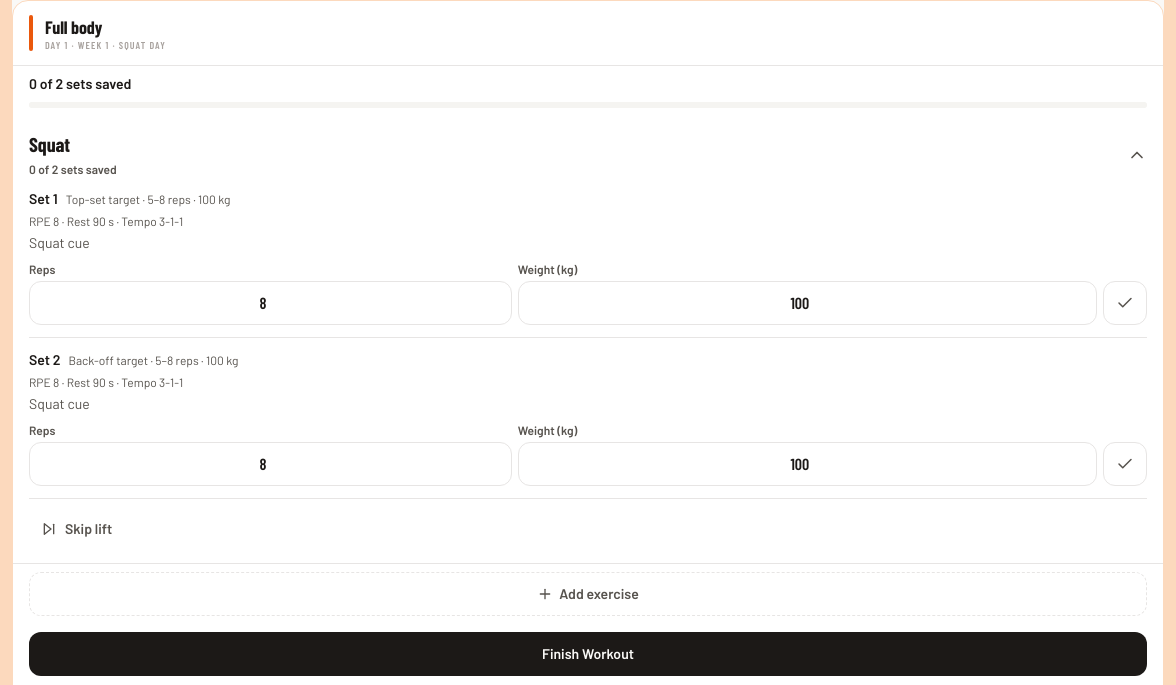
Scenario: active superset rounds › keeps ordinary exercise cards open after their final saved set
Expected: the number field named "Squat set 1 reps" is shown, [29,281,512,325]
Step 1. Click the button named "Save set 1" → (1125, 303), box [1103,281,1147,325]
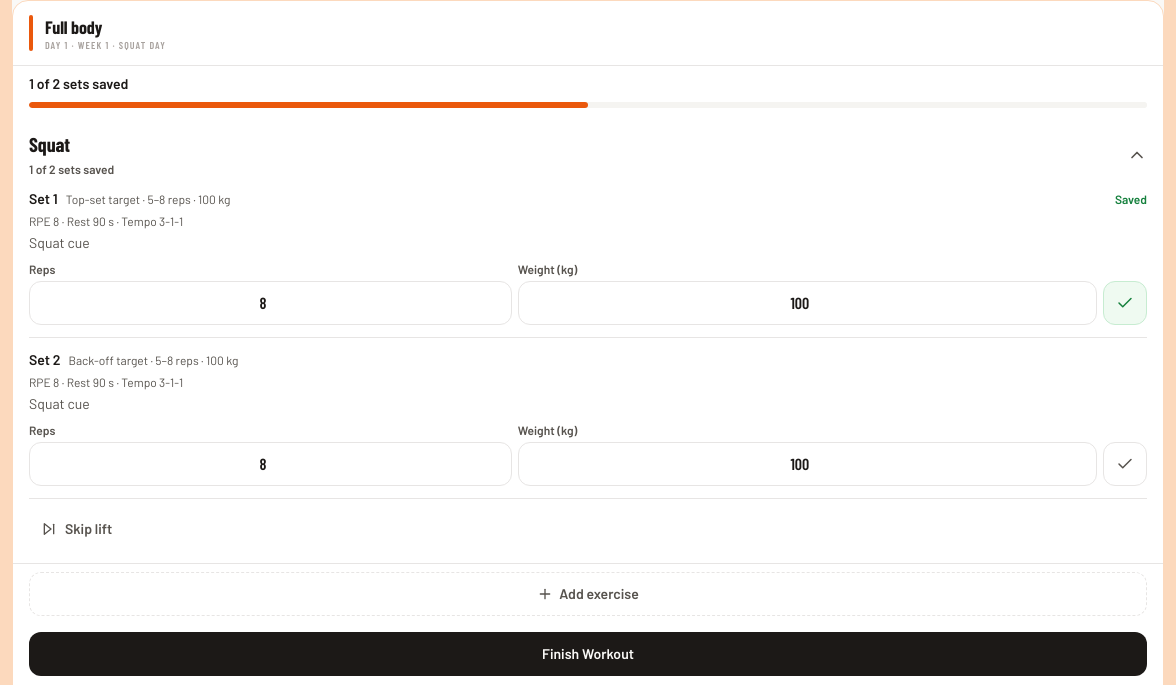
Step 2. Click the button named "Save set 2" → (1125, 464), box [1103,442,1147,486]
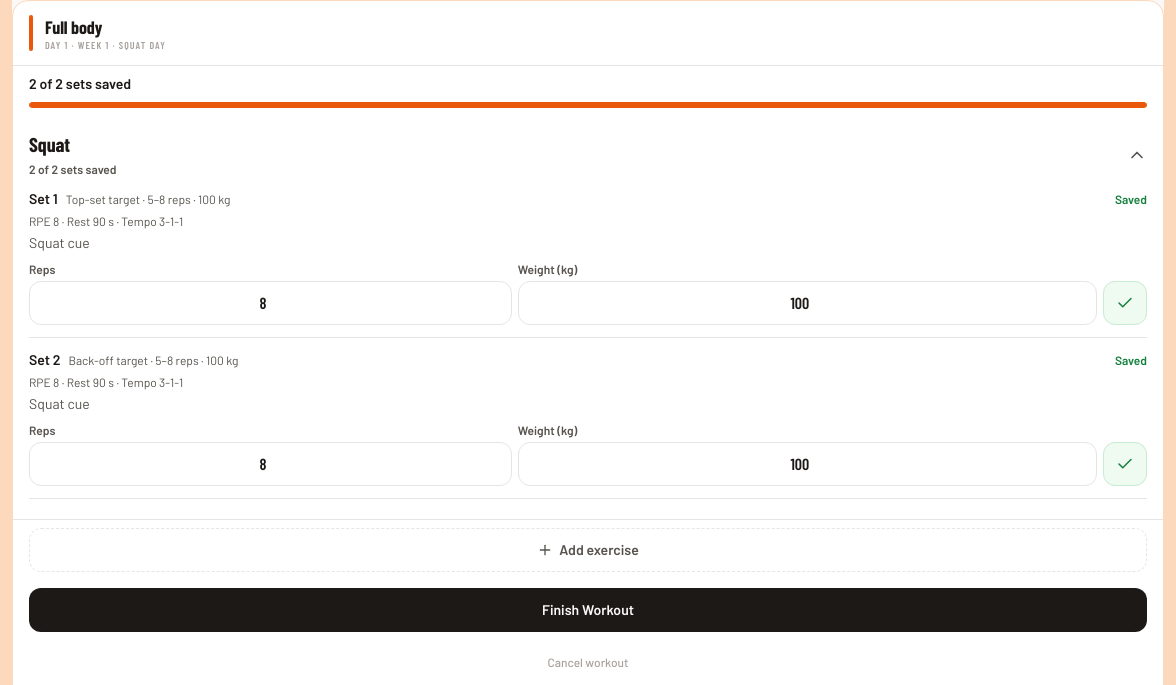
Now the button with aria-label "Collapse Squat" shows "2 of 2 sets saved", box [13,120,1163,189]
